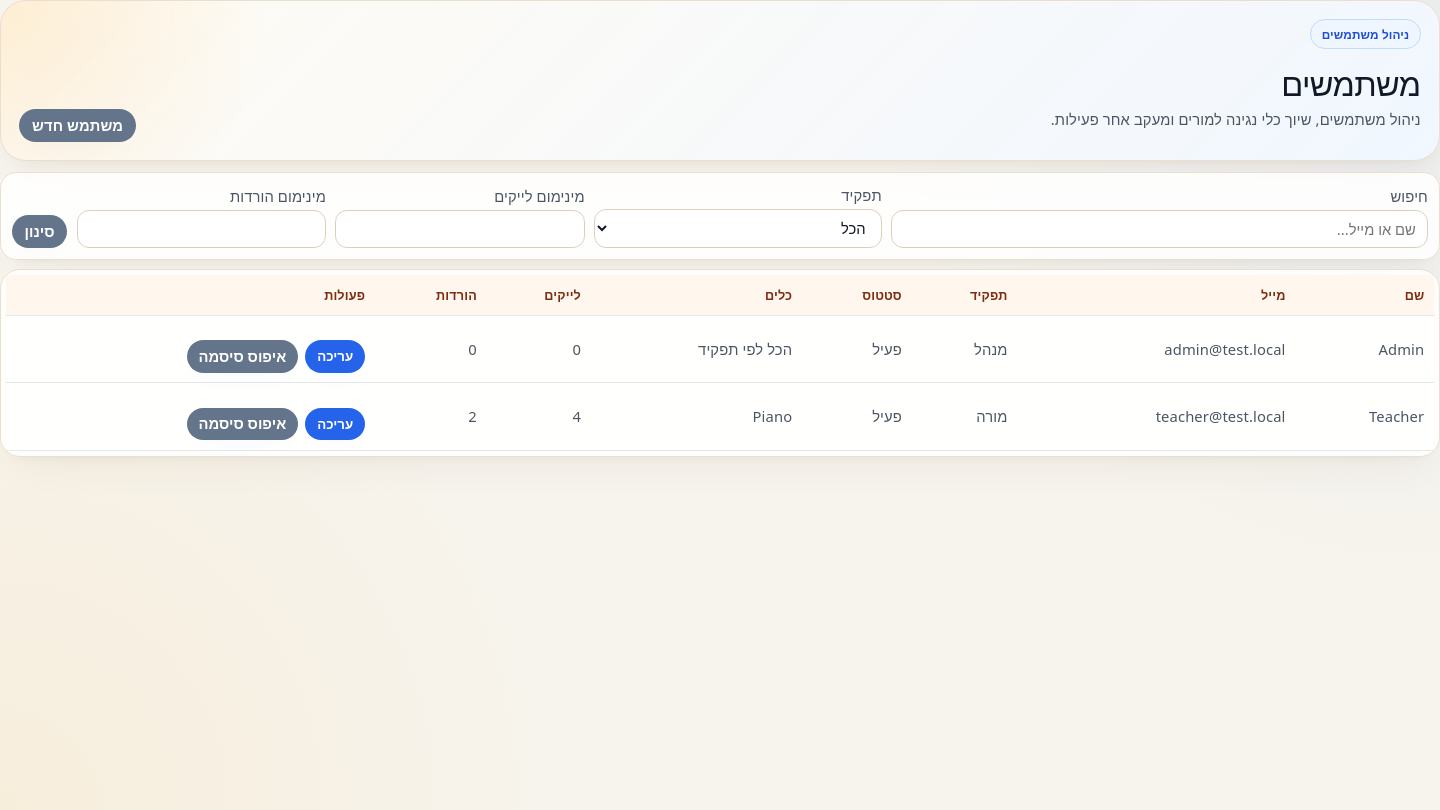
Test: AdminUsersPage › displays API error messages on the create page
expect the text "Admin" is shown: met, box [1295,316,1434,383]
Click the link "משתמש חדש". click: (78, 126)
box: [19,109,136,142]
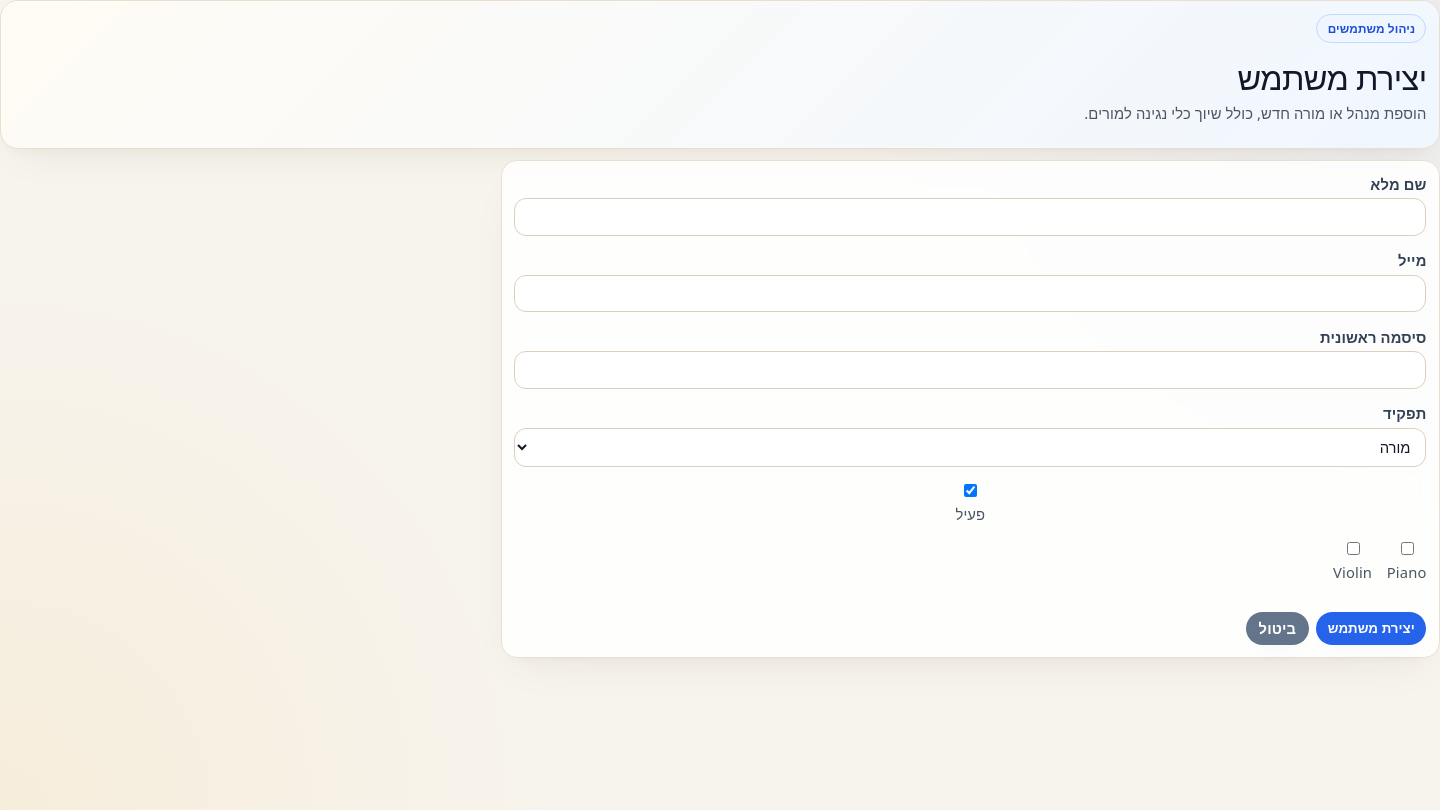
expect the form "יצירת משתמש" is shown: met, box [501,160,1439,658]
Type "Duplicate" into the field labelled "שם מלא". click: (970, 217)
box: [514,198,1426,236]
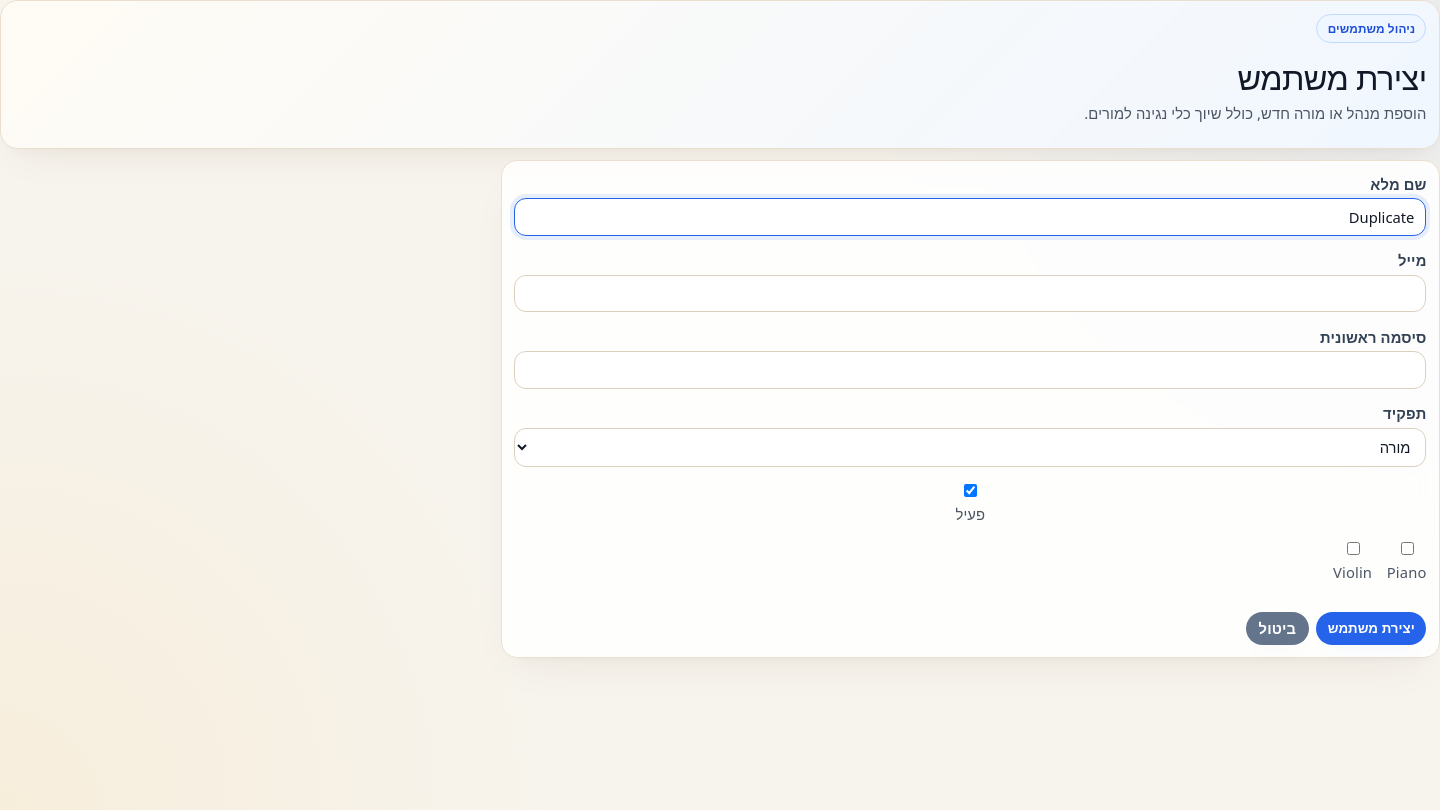
Type "admin@test.local" into the field labelled "מייל". click: (970, 294)
box: [514,275,1426,312]
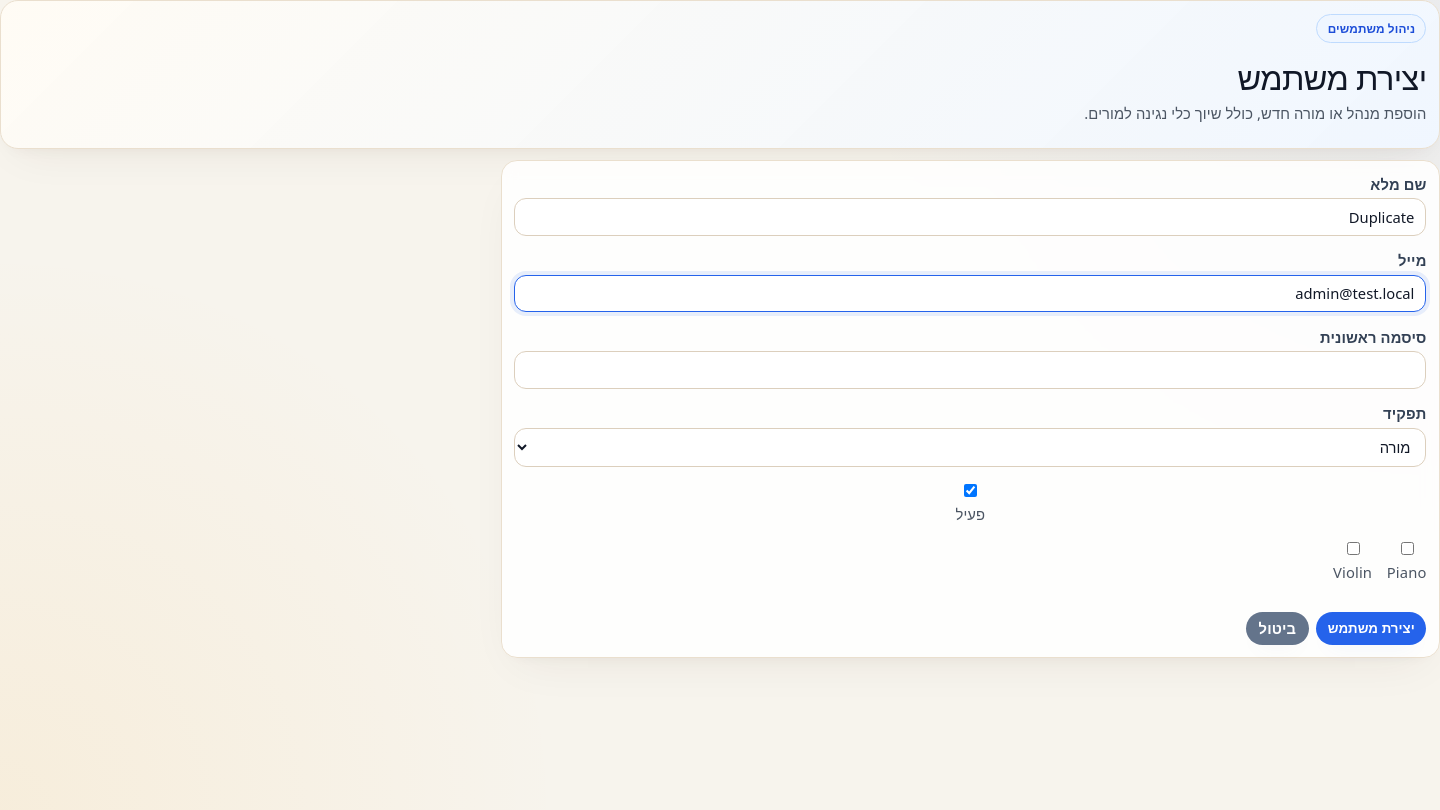
Type "Teacher123!" into the password field labelled "סיסמה ראשונית". click: (970, 370)
box: [514,351,1426,389]
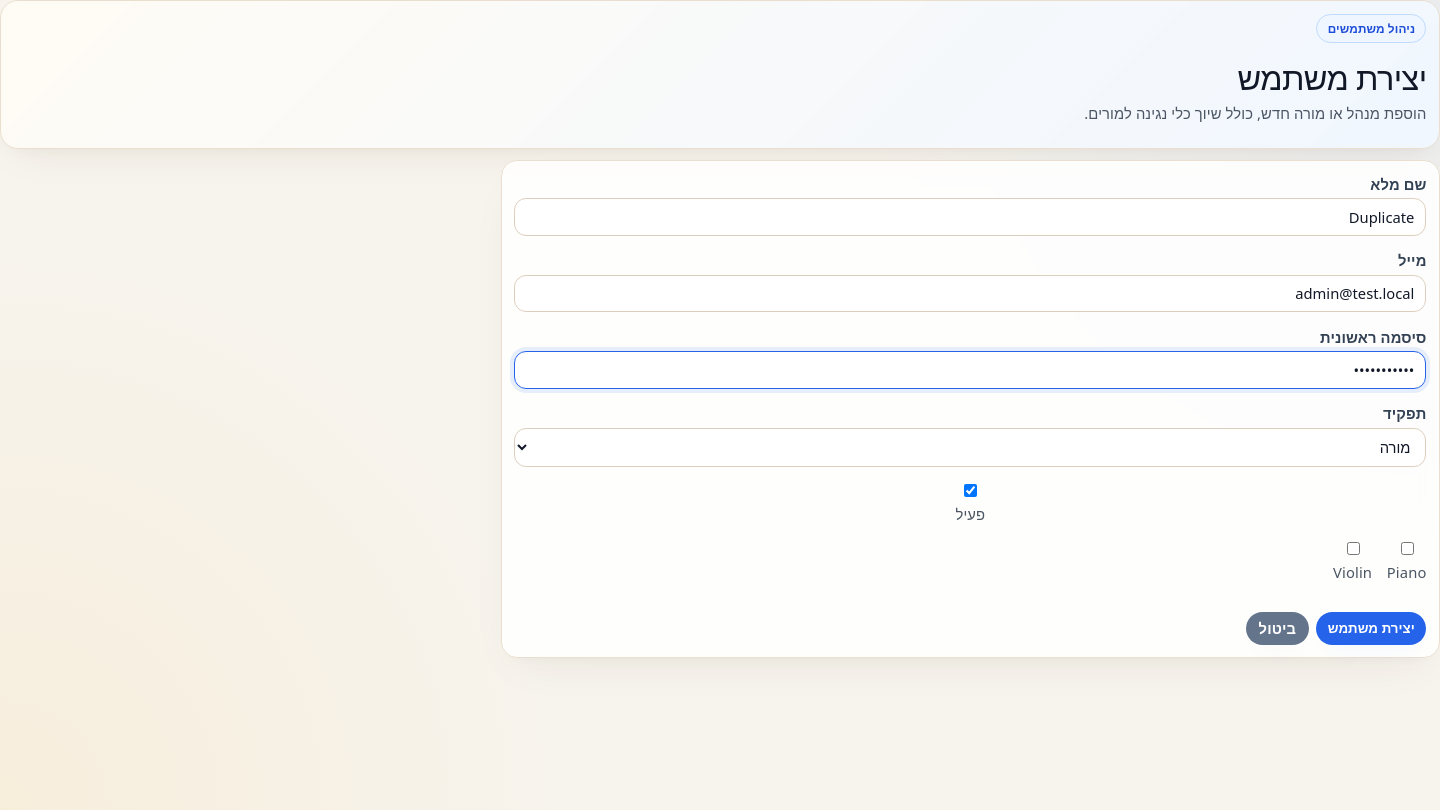
Click the button "יצירת משתמש". click: (1371, 628)
box: [1316,612,1426,645]
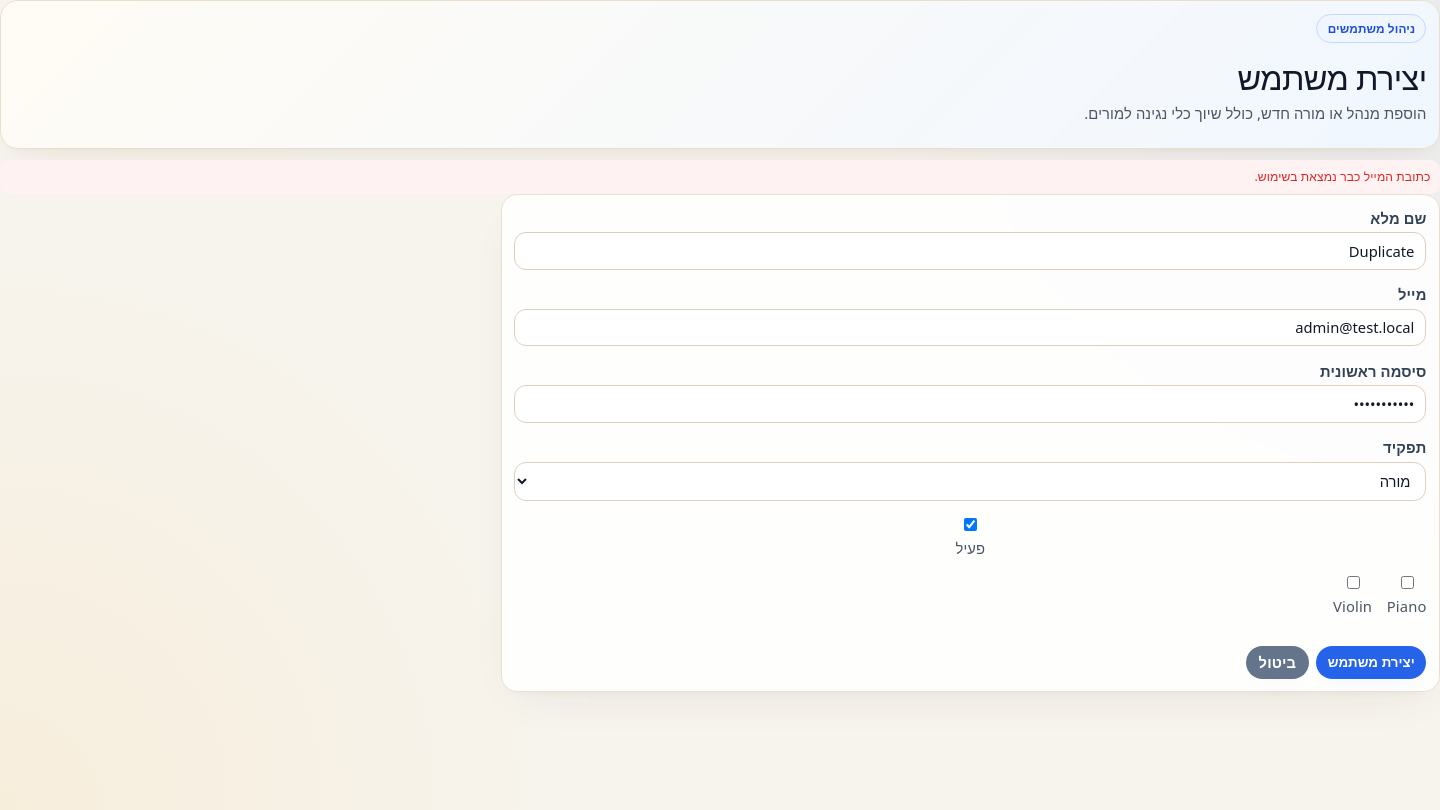
expect the text "כתובת המייל כבר נמצאת בשימוש." is shown: met, box [0,160,1439,194]
